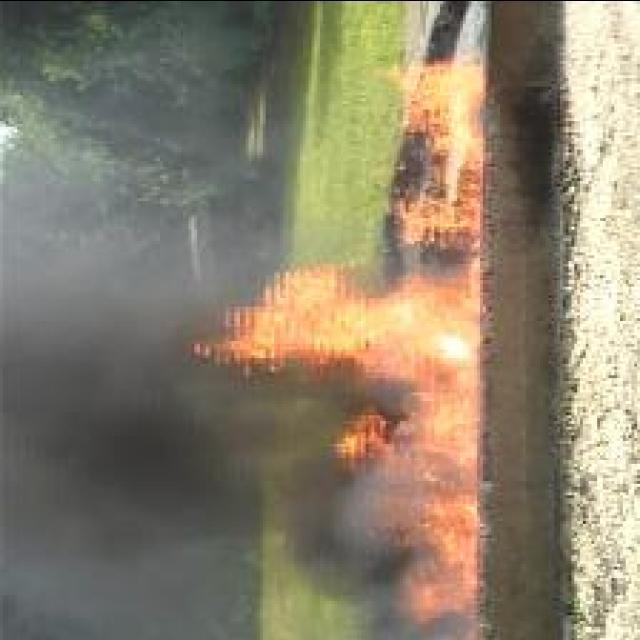Fire: (194, 49, 482, 640)
